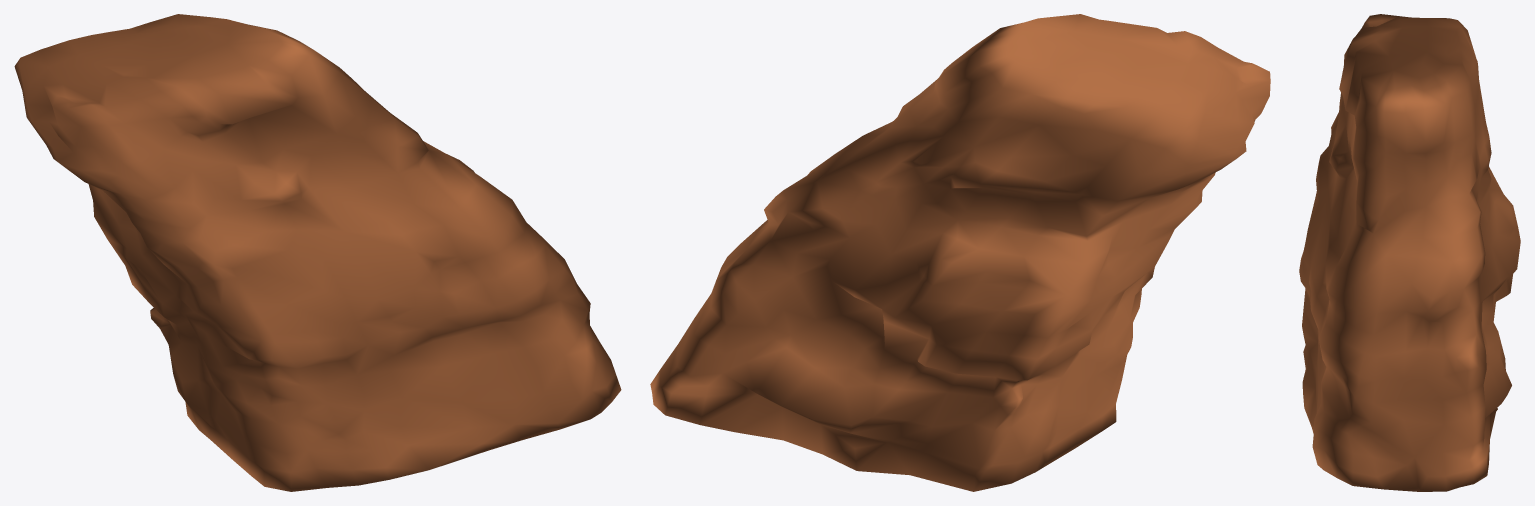
Rendered from MSH_Rocks_Cliff_12_b.FBX.
3 renders of one model, left to right at view 1: azimuth 30°, elevation 25°; view 2: azimuth 150°, elevation 25°; view 3: azimuth 270°, elevation 25°, orthographic. The views are drawn at different scales.
Visible parts, largest first — view 1: MESH_LOD0; view 2: MESH_LOD0; view 3: MESH_LOD0.
Boxes of the visible parts, left/top/right/bottom form: MESH_LOD0: left=14, top=14, right=621, bottom=491; MESH_LOD0: left=650, top=14, right=1270, bottom=491; MESH_LOD0: left=1299, top=14, right=1520, bottom=491.
Size of what is drawn, in the model's own units: 353 by 253 by 169.
